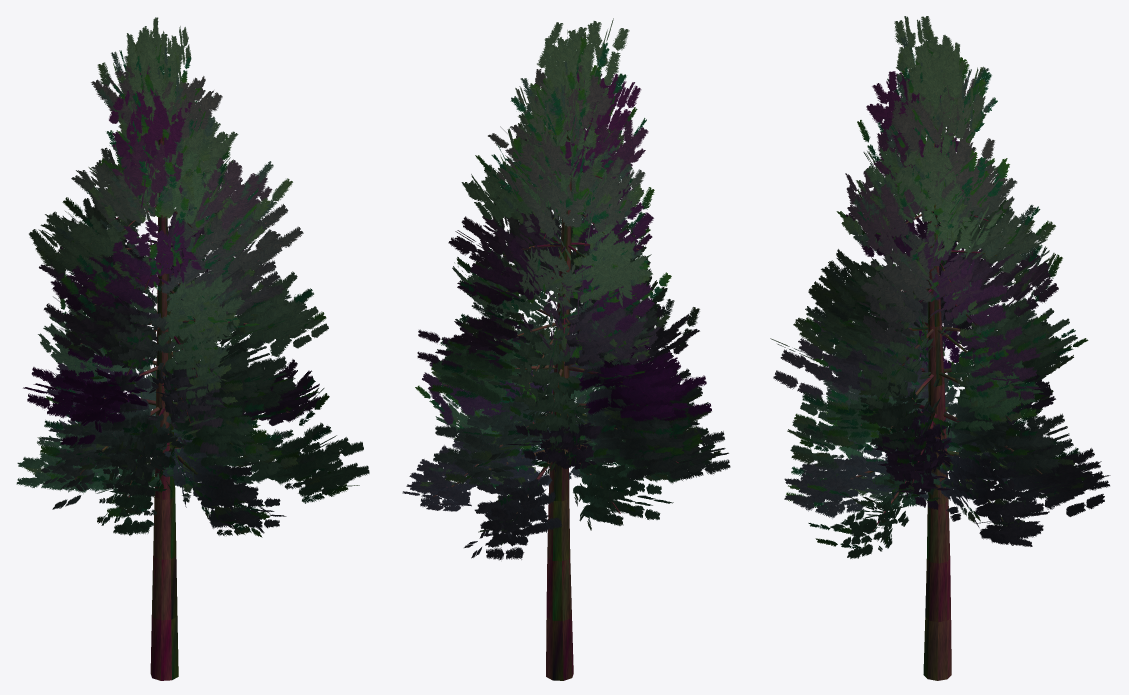
The model's file is nat_pine_a_LOD0.glb.
The picture shows the model from 3 angles, left to right: view 1: azimuth 30°, elevation 25°; view 2: azimuth 150°, elevation 25°; view 3: azimuth 270°, elevation 25°; orthographic projection. The views are drawn at different scales.
Parts seen in each view (by area): view 1: nat_pine_a_LOD0; view 2: nat_pine_a_LOD0; view 3: nat_pine_a_LOD0.
Part boxes in pixels (<box>): nat_pine_a_LOD0: <box>16,17,369,680</box>; nat_pine_a_LOD0: <box>402,18,730,680</box>; nat_pine_a_LOD0: <box>770,16,1110,680</box>.
Size of the model in its own units: 5.92 by 12.17 by 6.05.
2 materials, 2 textured.
